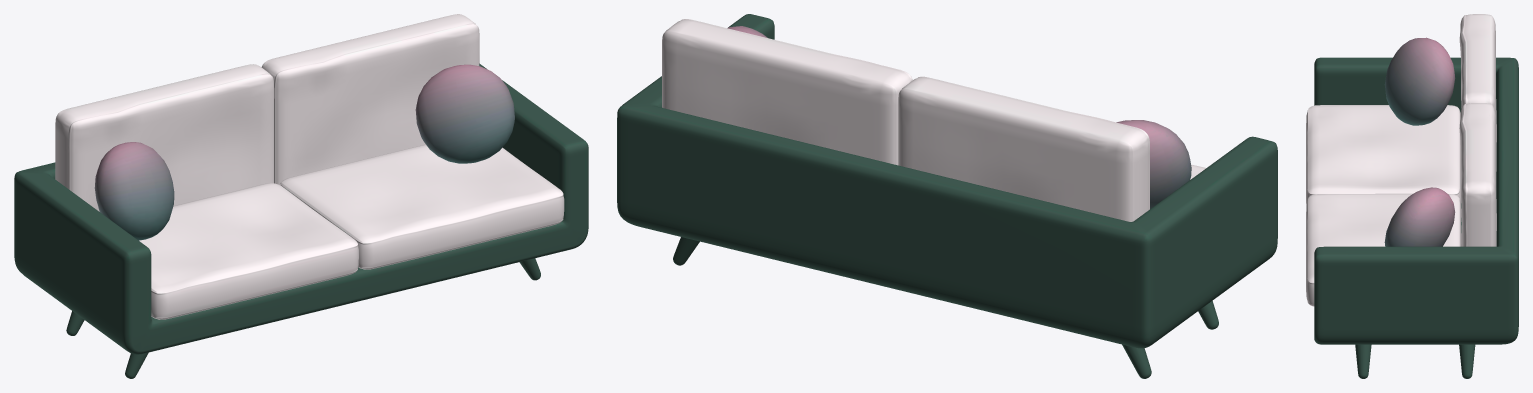
The model's file is SOFA-5.glb.
The picture shows the model from 3 angles, left to right: view 1: azimuth 30°, elevation 25°; view 2: azimuth 150°, elevation 25°; view 3: azimuth 270°, elevation 25°; orthographic projection. The views are drawn at different scales.
Parts seen in each view (by area): view 1: icons8_green_sofa_with_two_pillows; view 2: icons8_green_sofa_with_two_pillows; view 3: icons8_green_sofa_with_two_pillows.
Boxes of the visible parts, x1,y1,x2,y2 form: icons8_green_sofa_with_two_pillows: (14, 14, 588, 378); icons8_green_sofa_with_two_pillows: (617, 14, 1277, 378); icons8_green_sofa_with_two_pillows: (1306, 14, 1518, 378).
Bounding box in the file's own units: 2.36 × 1.05 × 1.06.
Materials: 1 (1 with a texture image).
